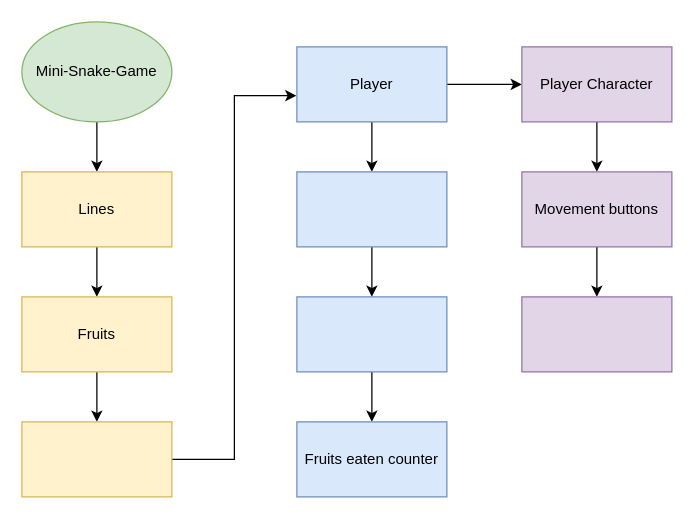
The diagram is 694 pixels wide and 519 high, and some of its shapes have lost their labels. The shapes that lost their labels are listed below. From the top down, each one's centre as x and y in pixels, then its label:
At point (371, 209): "Eat fruits".
At point (371, 334): "Reset button".
At point (596, 334): "Player Character Moving".
At point (96, 459): "Game".
